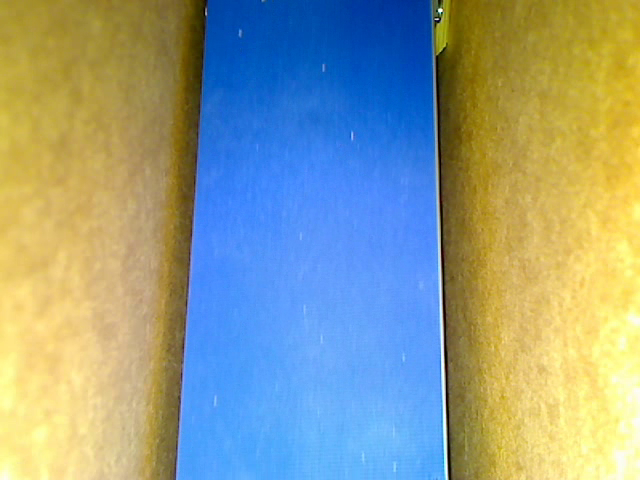penne: (433, 1, 448, 61)
